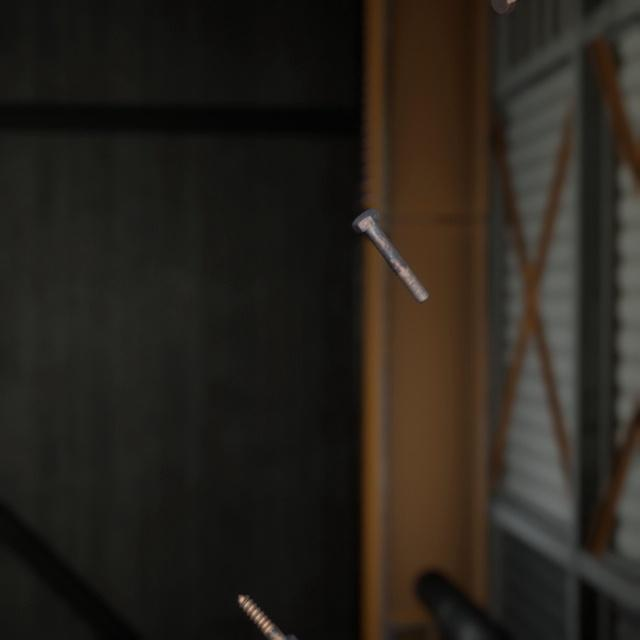bolt: (347, 188, 433, 292), (233, 566, 303, 640)
